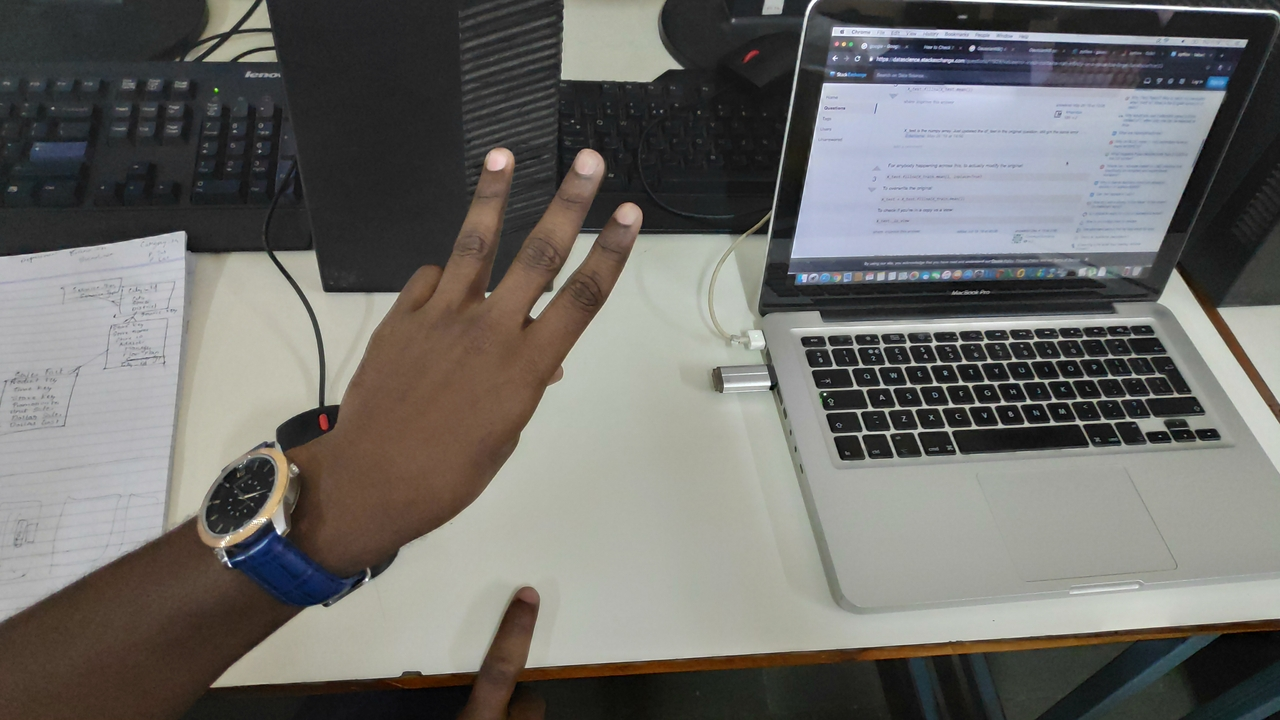fingertip: (594, 188, 654, 246), (554, 138, 616, 188), (468, 132, 522, 178)
